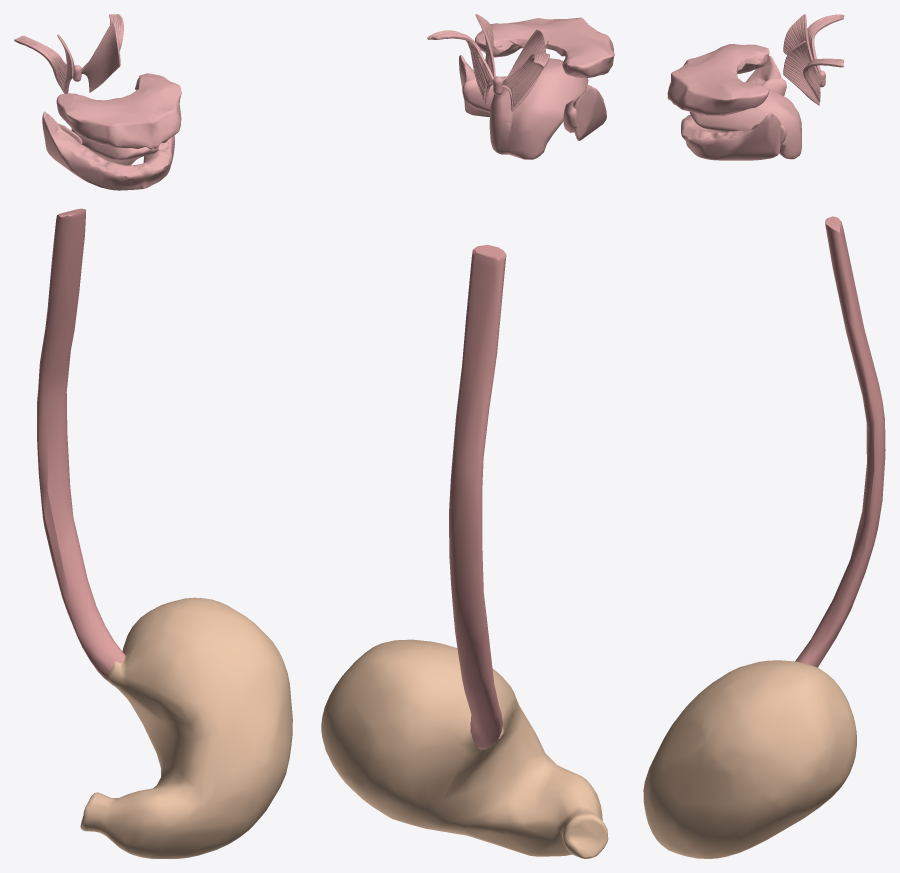
The model's file is digestive-upper.v1.glb.
3 views of the same model, side by side, from view 1: azimuth 30°, elevation 25°; view 2: azimuth 150°, elevation 25°; view 3: azimuth 270°, elevation 25° (orthographic). The views are drawn at different scales.
Visible parts, largest first — view 1: stomach, esophagus, gingiva_of_upper_jaw, gingiva_of_lower_jaw, left_tensor_veli_palatini, tongue, right_levator_veli_palatini; view 2: stomach, esophagus, tongue, gingiva_of_upper_jaw, gingiva_of_lower_jaw, right_levator_veli_palatini, left_levator_veli_palatini, right_tensor_veli_palatini, left_submandibular_gland, left_tensor_veli_palatini; view 3: stomach, esophagus, gingiva_of_upper_jaw, gingiva_of_lower_jaw, tongue, left_tensor_veli_palatini, right_tensor_veli_palatini, left_levator_veli_palatini, right_levator_veli_palatini.
Boxes of the visible parts, x1,y1,x2,y2 form: stomach: (80, 597, 292, 858); esophagus: (37, 208, 125, 685); gingiva_of_upper_jaw: (56, 73, 181, 149); gingiva_of_lower_jaw: (42, 111, 174, 190); left_tensor_veli_palatini: (81, 21, 120, 92); tongue: (71, 128, 158, 165); right_levator_veli_palatini: (14, 35, 66, 92); stomach: (321, 639, 608, 858); esophagus: (449, 244, 506, 749); tongue: (489, 58, 588, 159); gingiva_of_upper_jaw: (475, 17, 614, 78); gingiva_of_lower_jaw: (459, 55, 606, 140); right_levator_veli_palatini: (502, 53, 549, 106); left_levator_veli_palatini: (427, 30, 493, 99); right_tensor_veli_palatini: (502, 29, 546, 111); left_submandibular_gland: (462, 78, 494, 112); left_tensor_veli_palatini: (475, 14, 495, 105); stomach: (643, 660, 856, 858); esophagus: (795, 216, 885, 667); gingiva_of_upper_jaw: (667, 44, 769, 116); gingiva_of_lower_jaw: (681, 55, 781, 160); tongue: (689, 90, 801, 159); left_tensor_veli_palatini: (783, 41, 821, 105); right_tensor_veli_palatini: (783, 14, 818, 72); left_levator_veli_palatini: (803, 58, 844, 101); right_levator_veli_palatini: (807, 14, 844, 87).
Bounding box in the file's own units: 0.1439 × 0.4635 × 0.128.
